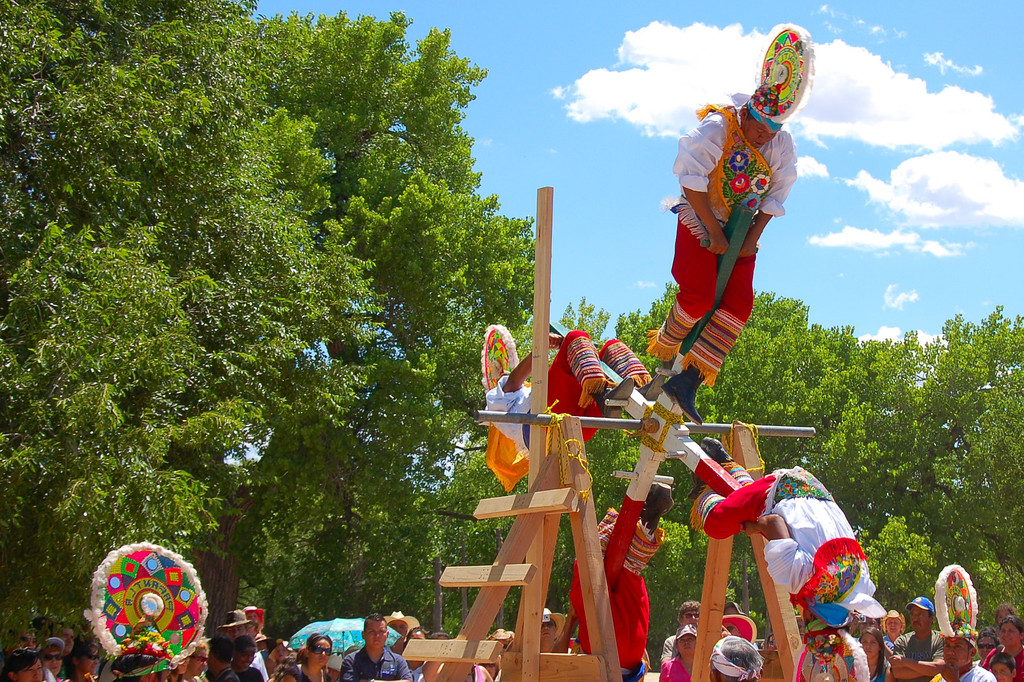Person: (0, 599, 1024, 682), (643, 23, 815, 424), (688, 435, 879, 682), (478, 320, 669, 492), (566, 479, 676, 679)
